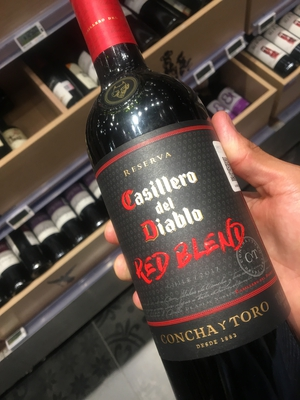casillero del diablo red blend: (65, 4, 300, 362)
